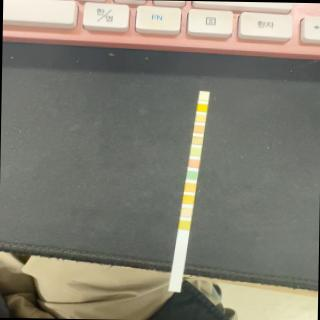mark: (184, 182, 196, 192), (188, 158, 200, 168), (182, 195, 194, 204), (178, 221, 190, 229), (180, 208, 192, 216), (191, 136, 203, 144), (186, 171, 197, 179), (198, 93, 209, 101), (190, 148, 200, 156), (193, 124, 203, 132), (195, 114, 205, 122), (196, 104, 208, 110)
